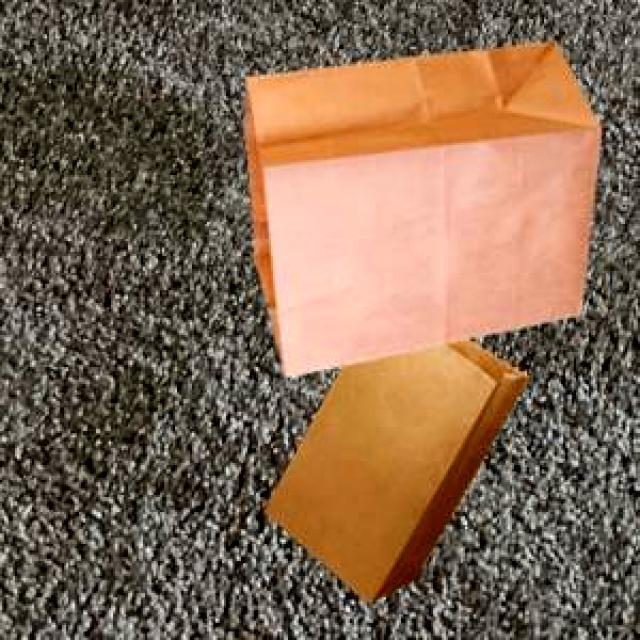Paper_Bag: (242, 40, 599, 372), (261, 336, 526, 601)
